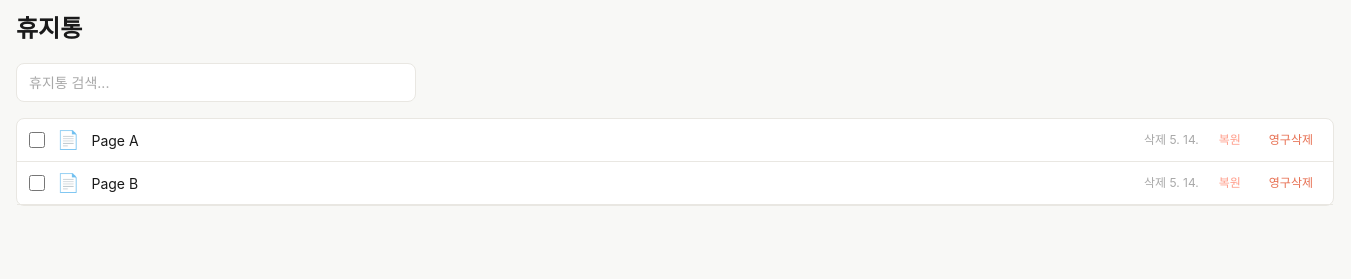
Test case: TrashListClient › 체크박스로 N개 선택 시 일괄 작업 바 표시
This screenshot has width=1351, height=279.
Click the checkbox named "Page A 선택": (37, 140) [29,132,45,148]
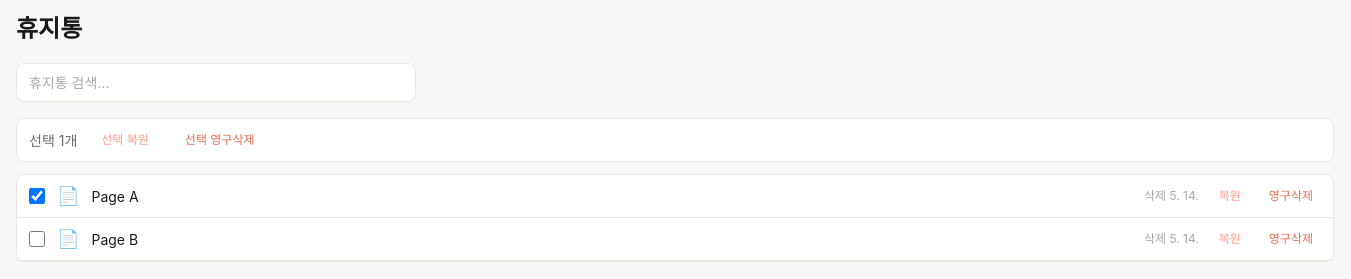
Expected: the text "선택 1개" is shown, [29,130,77,150]
Click the checkbox named "Page B 선택": (37, 239) [29,231,45,247]
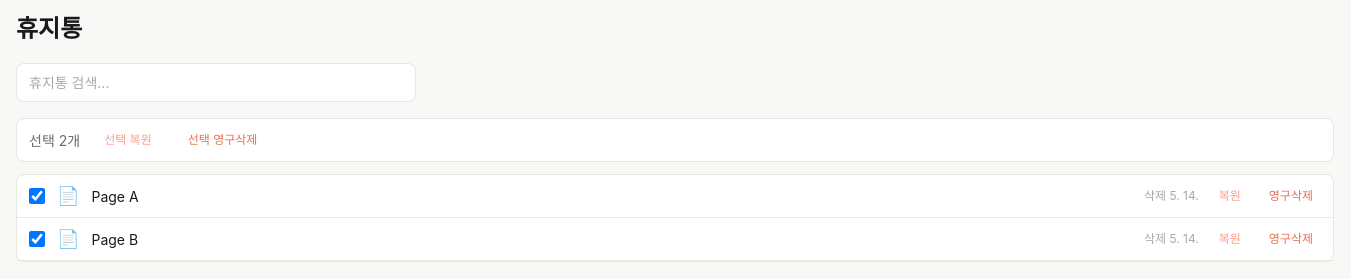
Expected: the text "선택 2개" is shown, [29,130,80,150]
